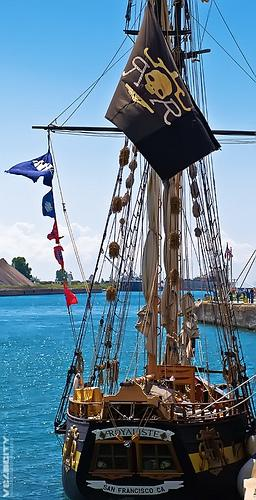Ship: (8, 1, 256, 500)
